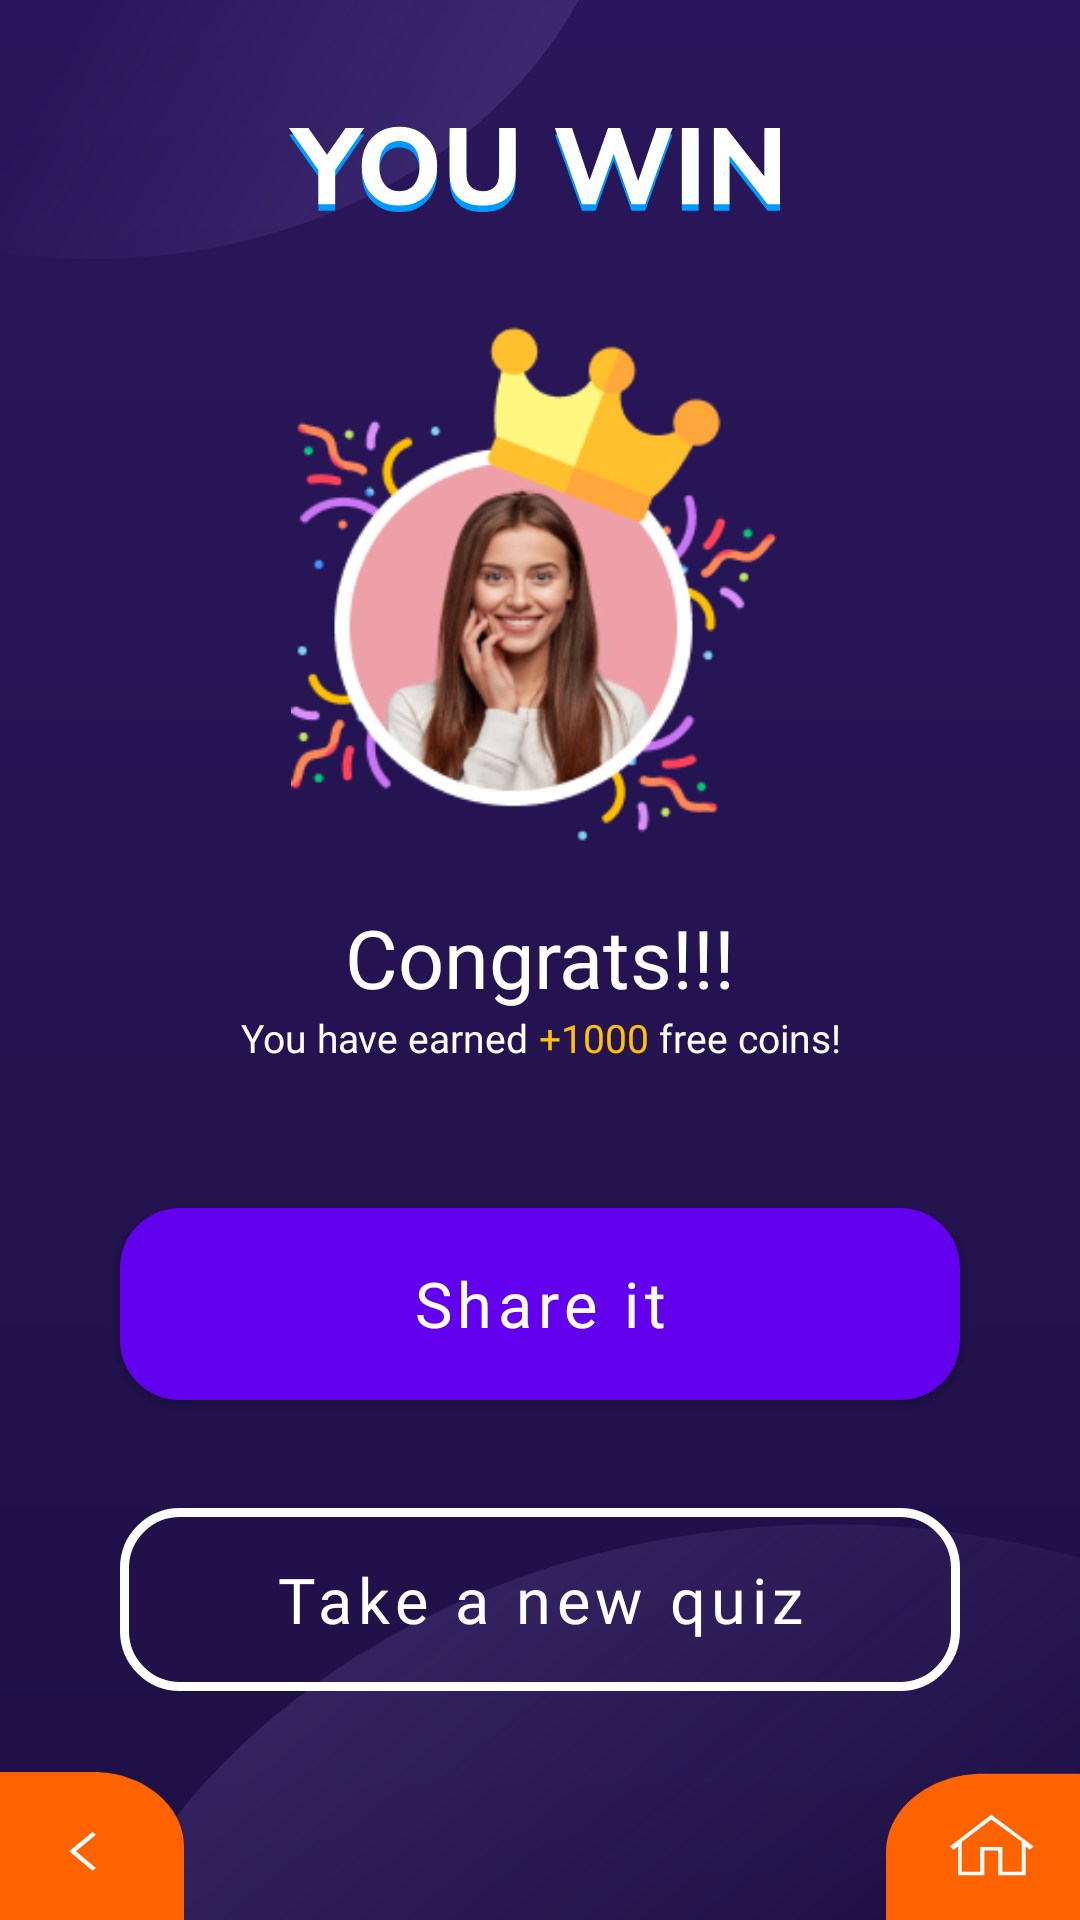

Icon bounding boxes for this 1080 × 1920 phone screenshot, format bbox(x1, y1, x2, y2):
back: bbox(0, 1772, 184, 1920)
home: bbox(886, 1773, 1080, 1920)
